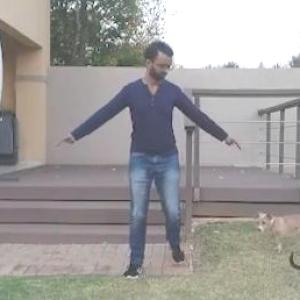land: (35, 42, 232, 281)
